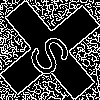S: (25, 25, 82, 81)
